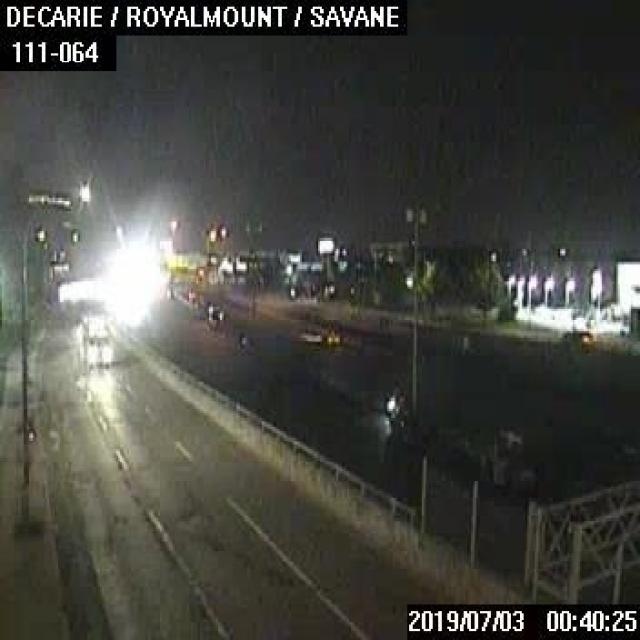vehicle: (76, 313, 114, 367), (556, 327, 596, 353), (324, 326, 344, 344)
